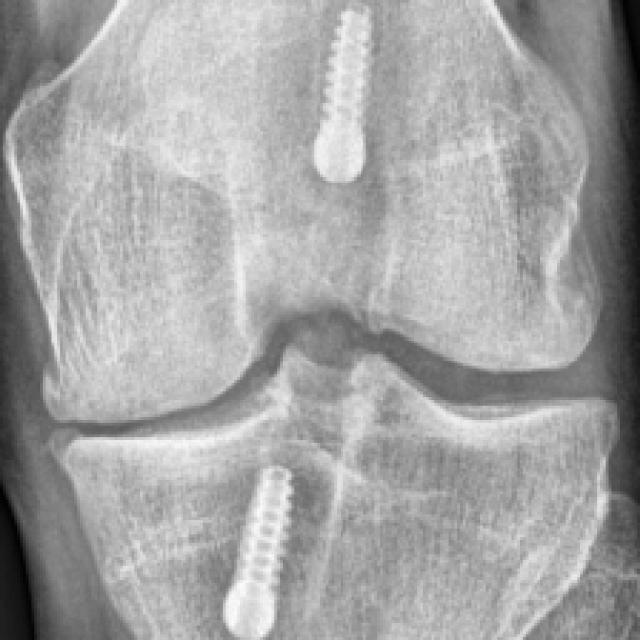femur: (6, 0, 603, 423)
tibia: (57, 344, 620, 640)
